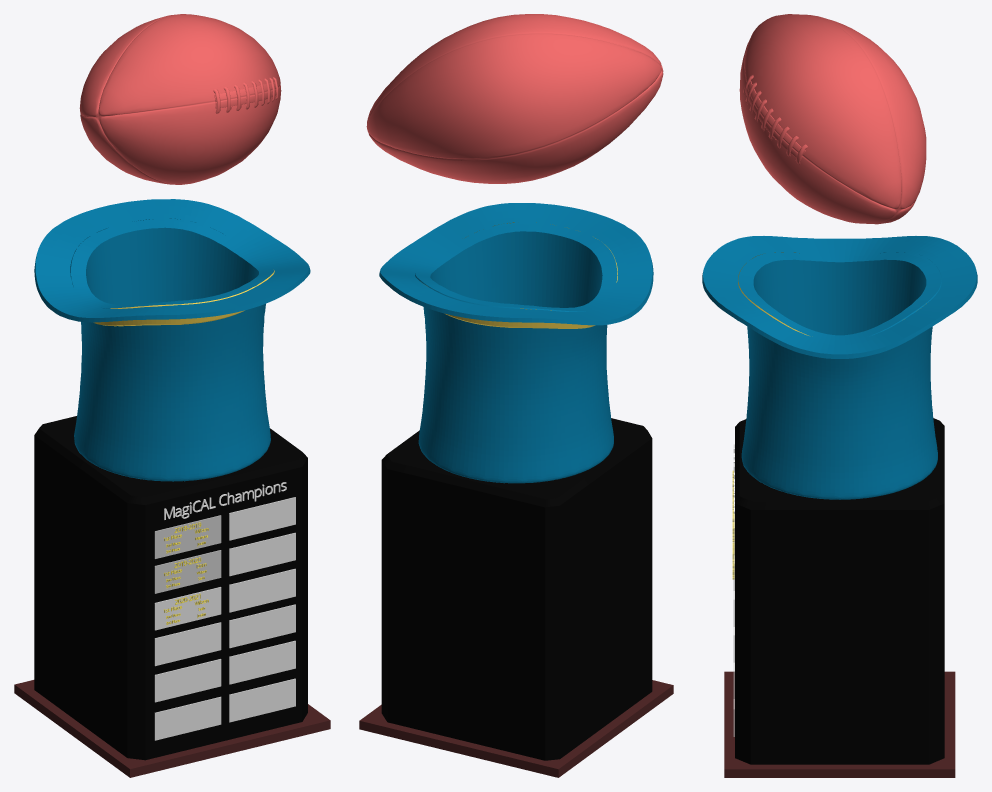
File: Trophy7.glb
The picture shows the model from 3 angles, left to right: view 1: azimuth 30°, elevation 25°; view 2: azimuth 150°, elevation 25°; view 3: azimuth 270°, elevation 25°; orthographic projection.
Parts seen in each view (by area): view 1: Buffer_Layer, Box_1_-_baked, football, Box, Box_6, Box_3, Box_5, Box_8, Box_9, Box_10, Box_7, Box_11 (+5 smaller); view 2: Box_1_-_baked, Buffer_Layer, football, Box, 179_Buffer_Layer; view 3: Box_1_-_baked, Buffer_Layer, football, Box.
Boxes of the visible parts, box(x1,y1,x2,y2) form: Buffer_Layer: box(34, 199, 310, 481); Box_1_-_baked: box(34, 416, 307, 760); football: box(79, 14, 281, 184); Box: box(14, 680, 330, 777); Box_6: box(154, 696, 221, 740); Box_3: box(154, 622, 221, 666); Box_5: box(154, 659, 221, 702); Box_8: box(229, 640, 295, 684); Box_9: box(229, 604, 295, 648); Box_10: box(229, 568, 295, 612); Box_7: box(229, 678, 295, 722); Box_11: box(229, 532, 295, 576); Box_1_-_baked: box(381, 418, 652, 760); Buffer_Layer: box(379, 203, 653, 483); football: box(366, 14, 663, 183); Box: box(359, 680, 673, 777); 179_Buffer_Layer: box(426, 222, 617, 328); Box_1_-_baked: box(735, 418, 944, 764); Buffer_Layer: box(702, 236, 977, 499); football: box(739, 14, 926, 224); Box: box(724, 671, 955, 777).
Bounding box in the file's own units: 0.81 × 2.21 × 0.799.
